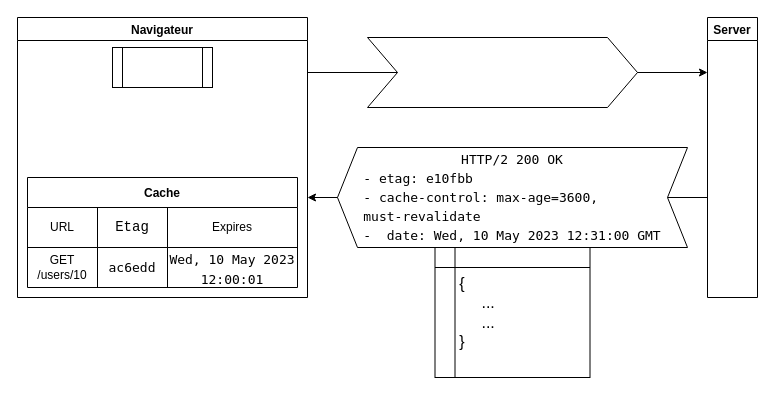
The diagram is 775 pixels wide and 395 high, and some of its shapes have lost their labels. The shapes that lost their labels are listed below. From the top down, each one's centre as x and y in pixels, then its label:
point (162, 67): Page
point (502, 72): GET /users/10 HTTP/2 If-None-Match: a c6edd
